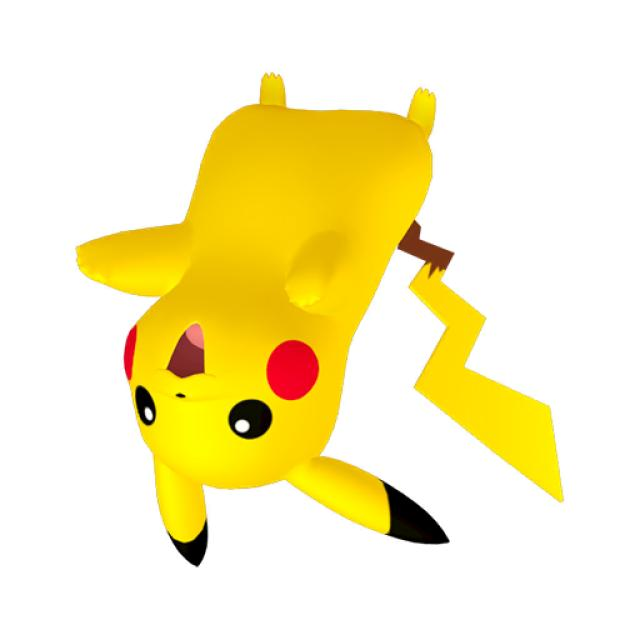Pikachu: (43, 33, 623, 588)
